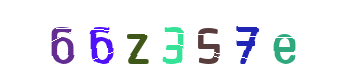3: (134, 0, 214, 80)
5: (138, 0, 218, 80)
6: (35, 0, 115, 80), (60, 0, 140, 80)
7: (189, 0, 269, 80)
E: (207, 0, 287, 80)
Z: (114, 0, 194, 80)
